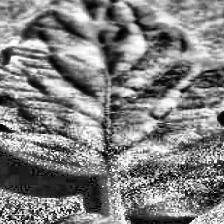leaf mold: (0, 0, 224, 185)
